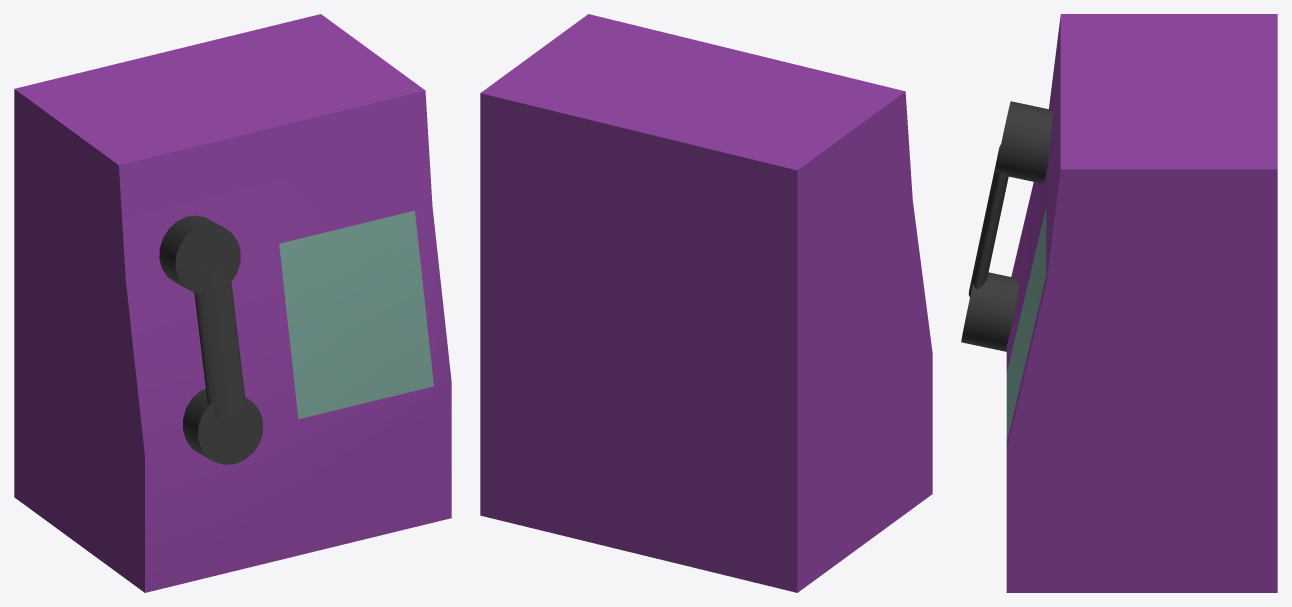
File: telefone.fbx
The picture shows the model from 3 angles, left to right: view 1: azimuth 30°, elevation 25°; view 2: azimuth 150°, elevation 25°; view 3: azimuth 270°, elevation 25°; orthographic projection. The views are drawn at different scales.
Visible parts, largest first — view 1: pCube1, pCylinder3, pCylinder1, pCylinder2; view 2: pCube1; view 3: pCube1, pCylinder1, pCylinder2, pCylinder3.
Boxes of the visible parts, bbox=[...] form: pCube1: bbox=[14, 14, 451, 592]; pCylinder3: bbox=[194, 265, 245, 417]; pCylinder1: bbox=[159, 215, 240, 294]; pCylinder2: bbox=[183, 388, 262, 464]; pCube1: bbox=[480, 14, 932, 592]; pCube1: bbox=[1006, 14, 1277, 592]; pCylinder1: bbox=[995, 101, 1052, 183]; pCylinder2: bbox=[961, 272, 1018, 351]; pCylinder3: bbox=[968, 144, 1008, 296].
Size of the model in its own units: 2.38 by 3.04 by 2.05.
